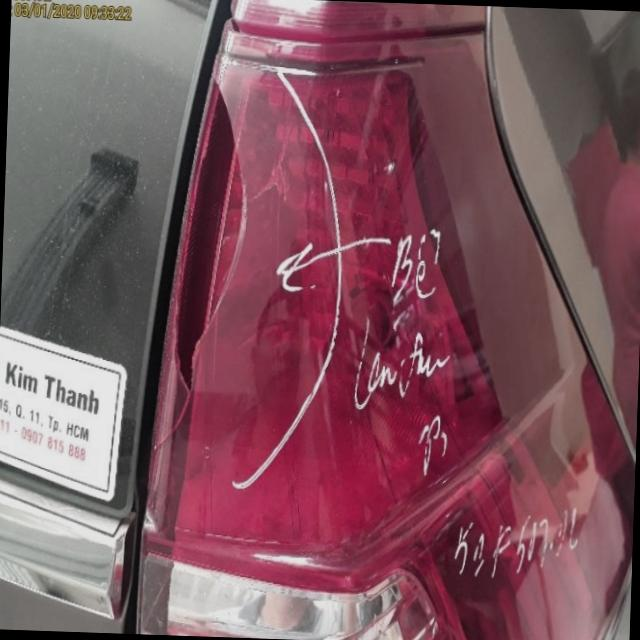Phare abime: (142, 64, 284, 496)
